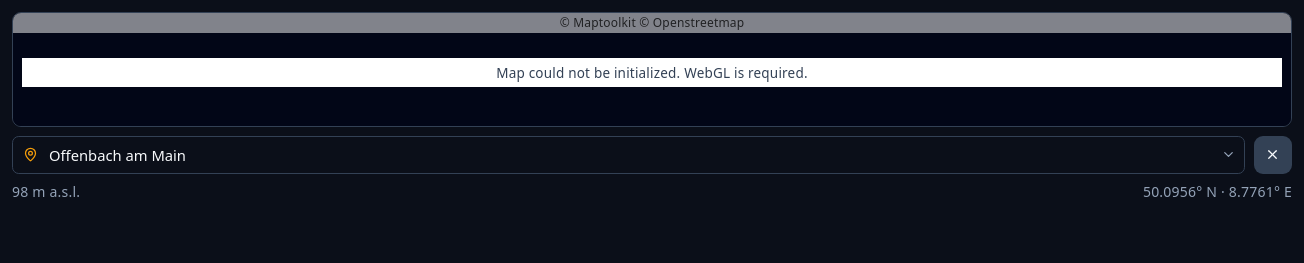
Test case: LocationSelector Component › Location History and Suggestions › clearing input with clear button re-queries top locations
The image size is (1304, 263).
Click the button named "Clear search": (1273, 155) 1254,136 -> 1292,174
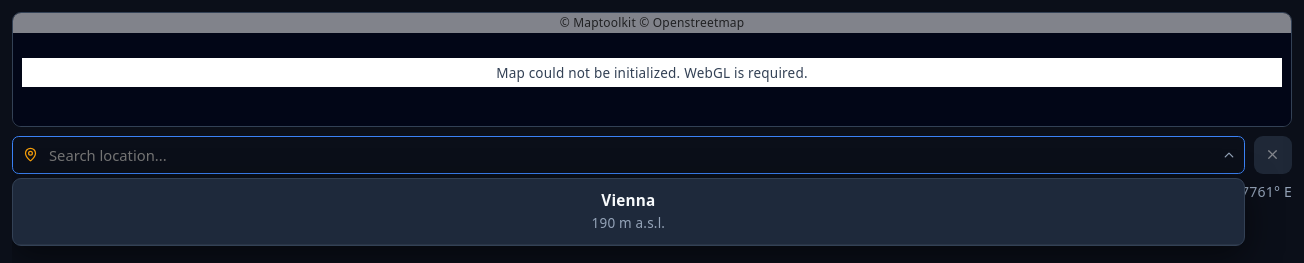
Expected: the field with placeholder "Search location..." is empty, 12,136 -> 1245,174
Expected: the button named "Clear search" is disabled, 1254,136 -> 1292,174
Expected: the text "Vienna" is shown, 601,190 -> 656,210
